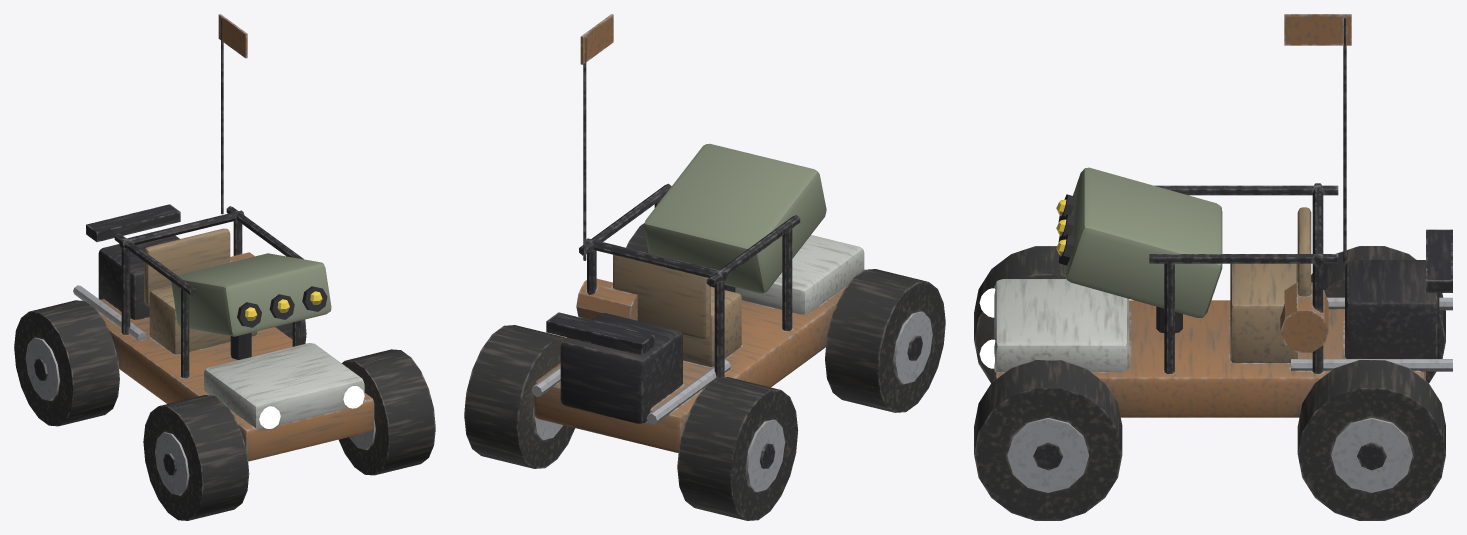
File: buggy.glb
3 renders of one model, left to right at view 1: azimuth 30°, elevation 25°; view 2: azimuth 150°, elevation 25°; view 3: azimuth 270°, elevation 25°, orthographic. The views are drawn at different scales.
Parts seen in each view (by area): view 1: Hull, Turret; view 2: Hull, Turret; view 3: Hull, Turret.
Boxes of the visible parts, x1,y1,x2,y2 form: Hull: [14, 14, 435, 520]; Turret: [171, 253, 331, 359]; Hull: [464, 14, 945, 520]; Turret: [643, 143, 826, 293]; Hull: [974, 14, 1452, 520]; Turret: [1056, 167, 1222, 333].
Size of the model in its own units: 2.58 by 3.82 by 3.55.
10 materials, 7 textured.
